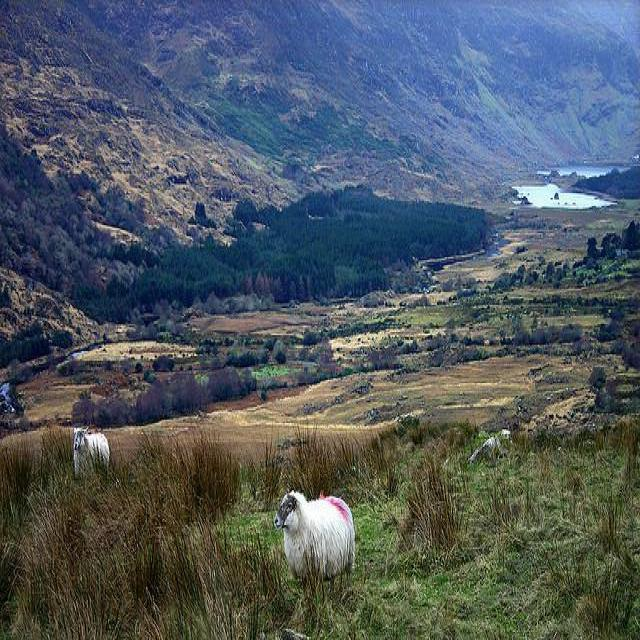Sheep: (272, 490, 357, 608)
